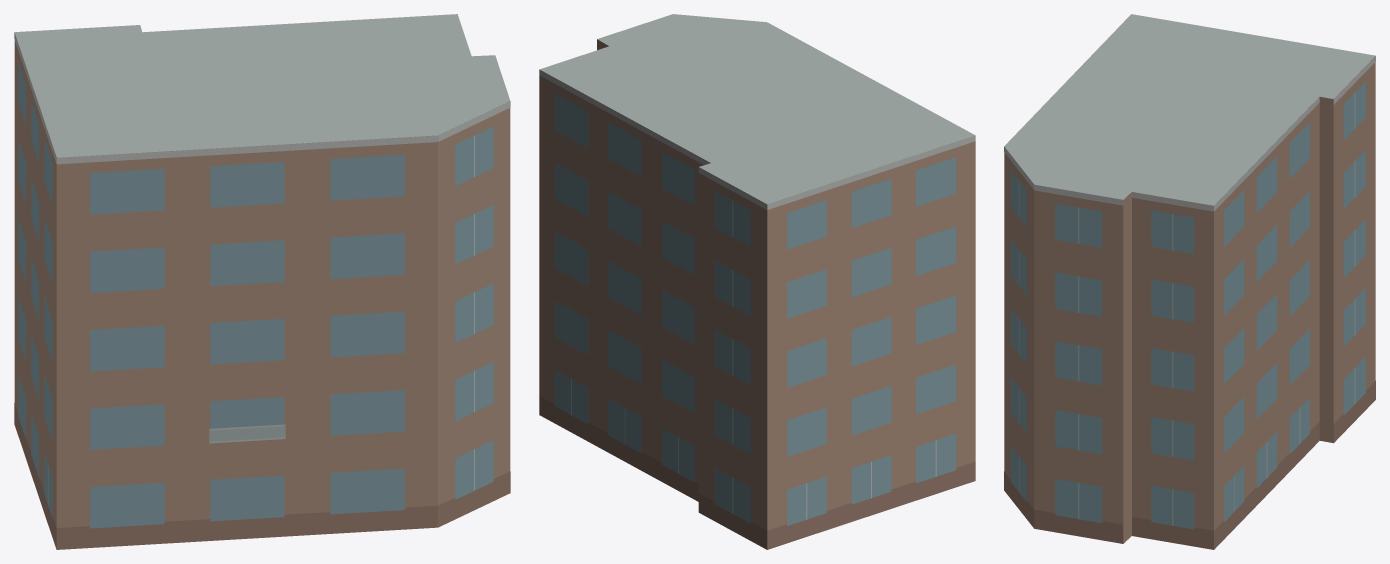
File: survey-upis-32720467.glb
The picture shows the model from 3 angles, left to right: view 1: azimuth 30°, elevation 25°; view 2: azimuth 150°, elevation 25°; view 3: azimuth 270°, elevation 25°; orthographic projection. The views are drawn at different scales.
Visible parts, largest first — view 1: survey-upis-32720467.tmp; view 2: survey-upis-32720467.tmp; view 3: survey-upis-32720467.tmp.
Part boxes in pixels (x1,y1,x2,y2): survey-upis-32720467.tmp: (14, 14, 510, 549); survey-upis-32720467.tmp: (539, 14, 975, 549); survey-upis-32720467.tmp: (1004, 14, 1375, 549).
Size of the model in its own units: 17.28 by 14.45 by 14.16.
